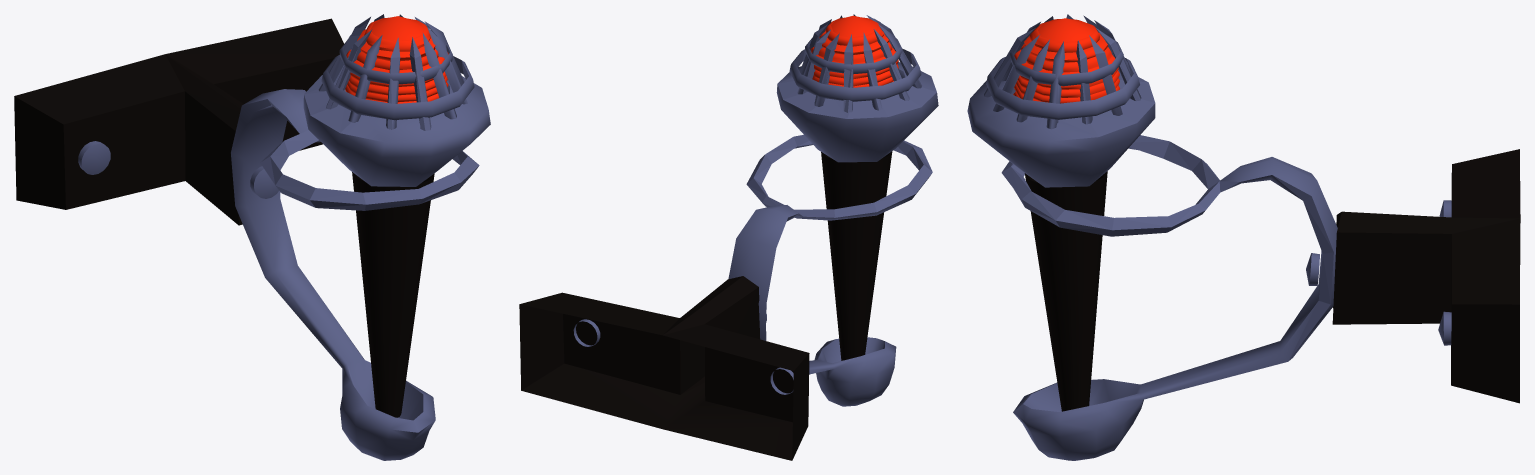
File: TorchWall_3.fbx
3 renders of one model, left to right at view 1: azimuth 30°, elevation 25°; view 2: azimuth 150°, elevation 25°; view 3: azimuth 270°, elevation 25°, orthographic. The views are drawn at different scales.
Parts seen in each view (by area): view 1: TorchWall_3; view 2: TorchWall_3; view 3: TorchWall_3.
Boxes of the visible parts, box(x1,y1,x2,y2) form: TorchWall_3: box(14, 14, 490, 460); TorchWall_3: box(519, 14, 938, 460); TorchWall_3: box(967, 14, 1520, 460).
Bounding box in the file's own units: 31.37 × 47.16 × 41.53.
